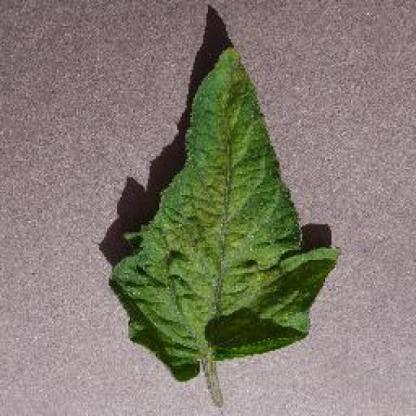Tomato_Spider_Mites: (111, 46, 339, 360)
